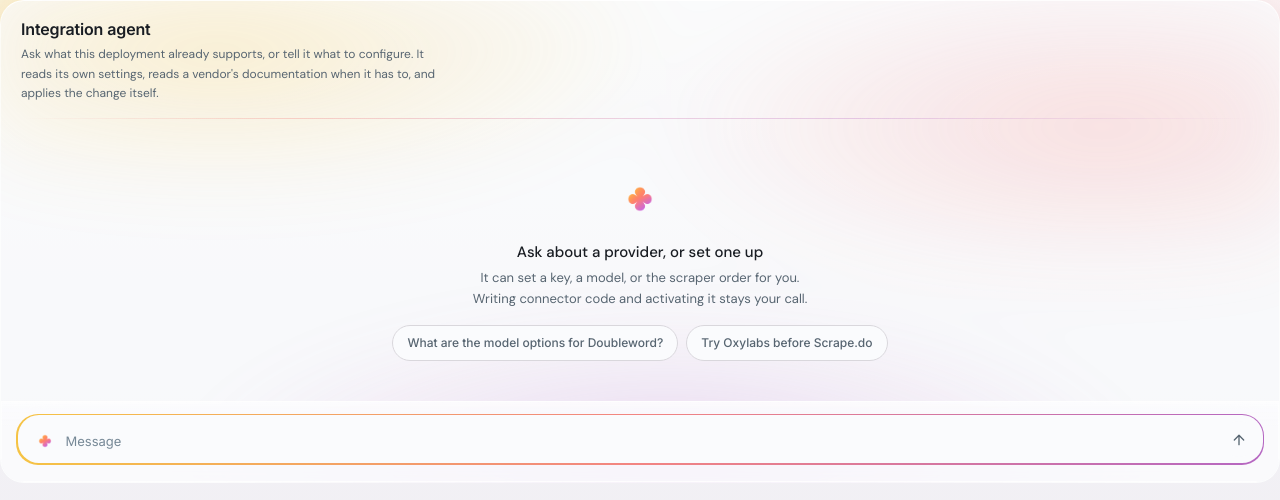
Test: Integration agent panel › offers no key field when the agent named no credential
The image size is (1280, 500).
In the text box named "Message the integration agent": (639,442) 66,426 -> 1212,458, type "Check if Groq is supported"
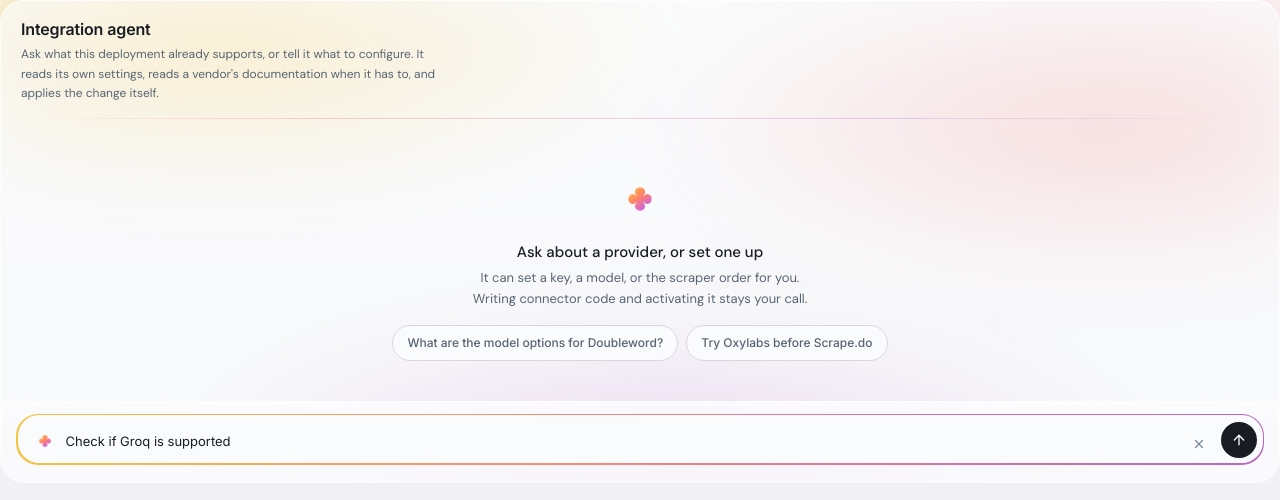
Click the button named "Send": (1238,440) 1220,422 -> 1256,458
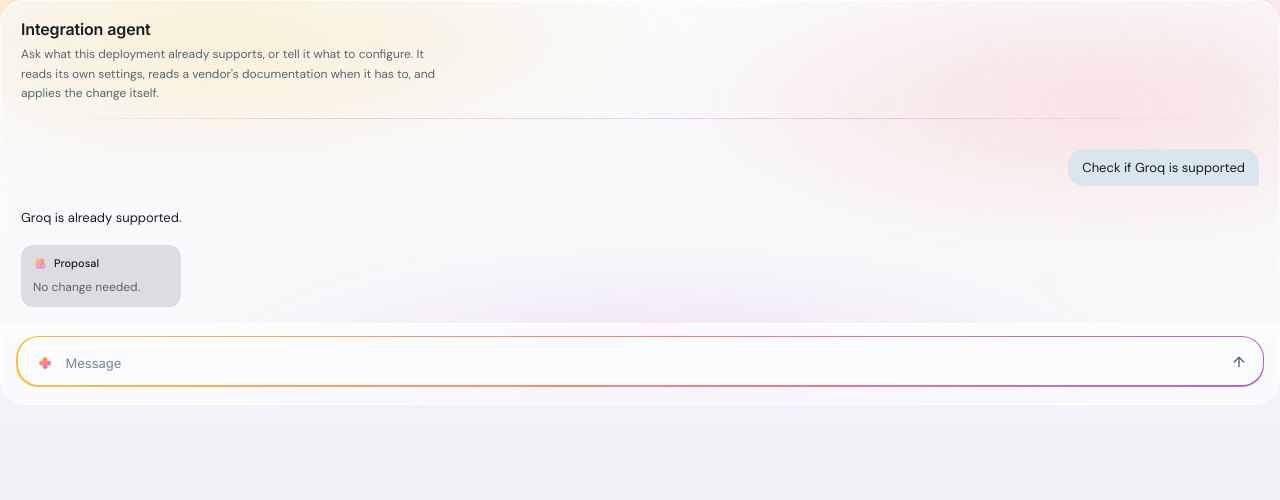
Result: the text "Groq is already supported." is shown at 21,208 -> 182,229
